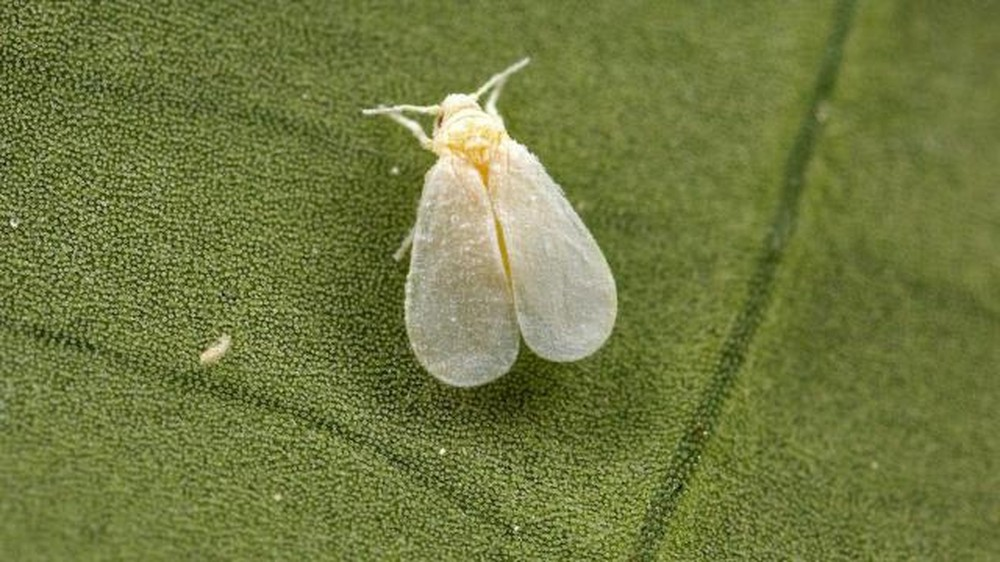Mosca Blanca: (355, 58, 647, 405)
